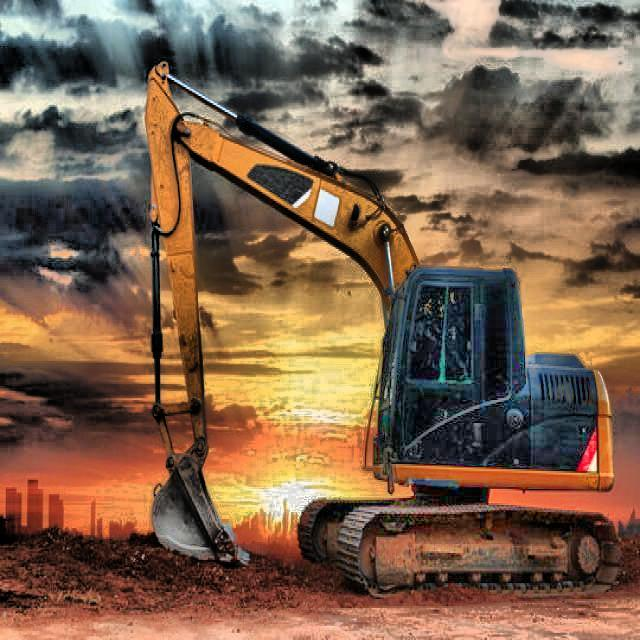excavator: (142, 58, 624, 597)
